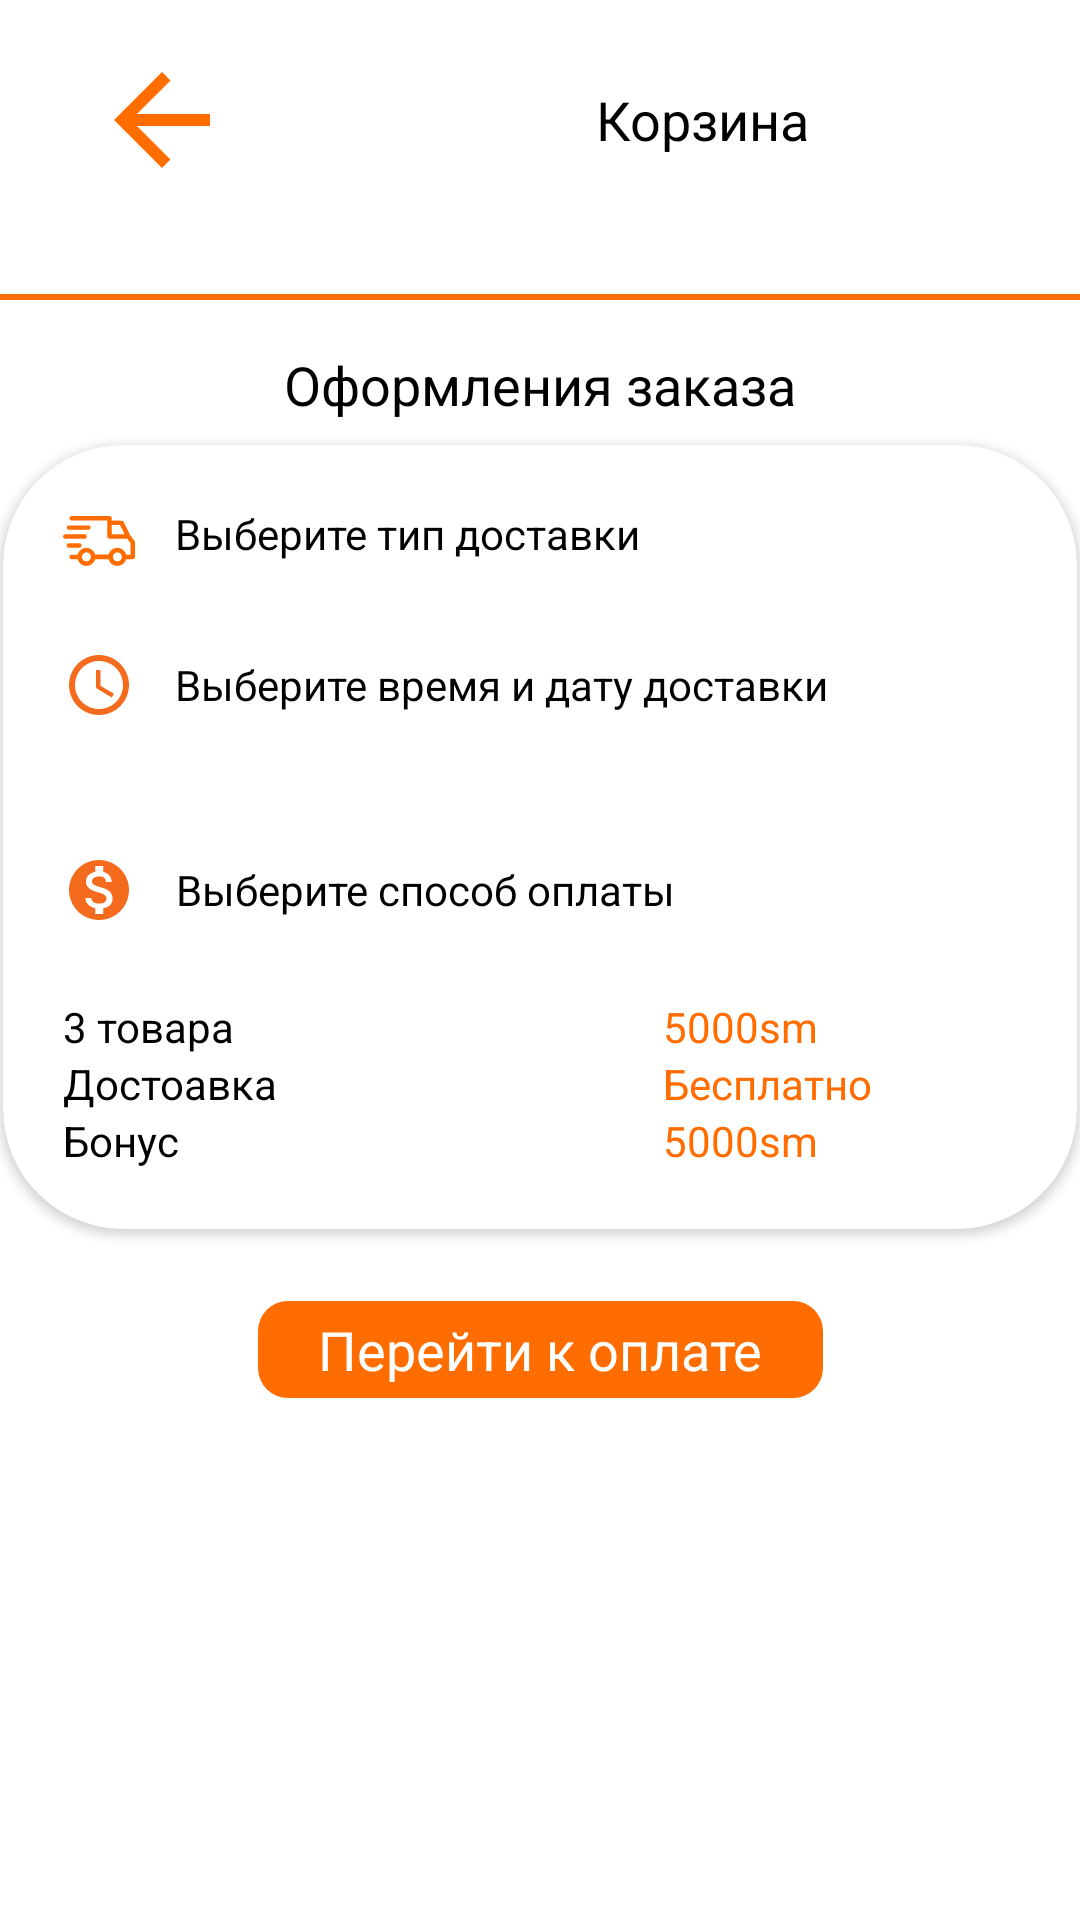

Locate icon controls on the screen. Image size 1080w x 1920h, boxes as bbox(x1, y1, x2, y2).
arrow back: bbox(114, 72, 210, 168)
